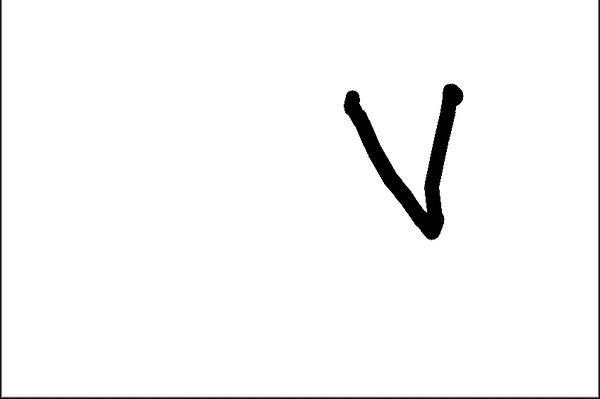V: (334, 76, 471, 247)
